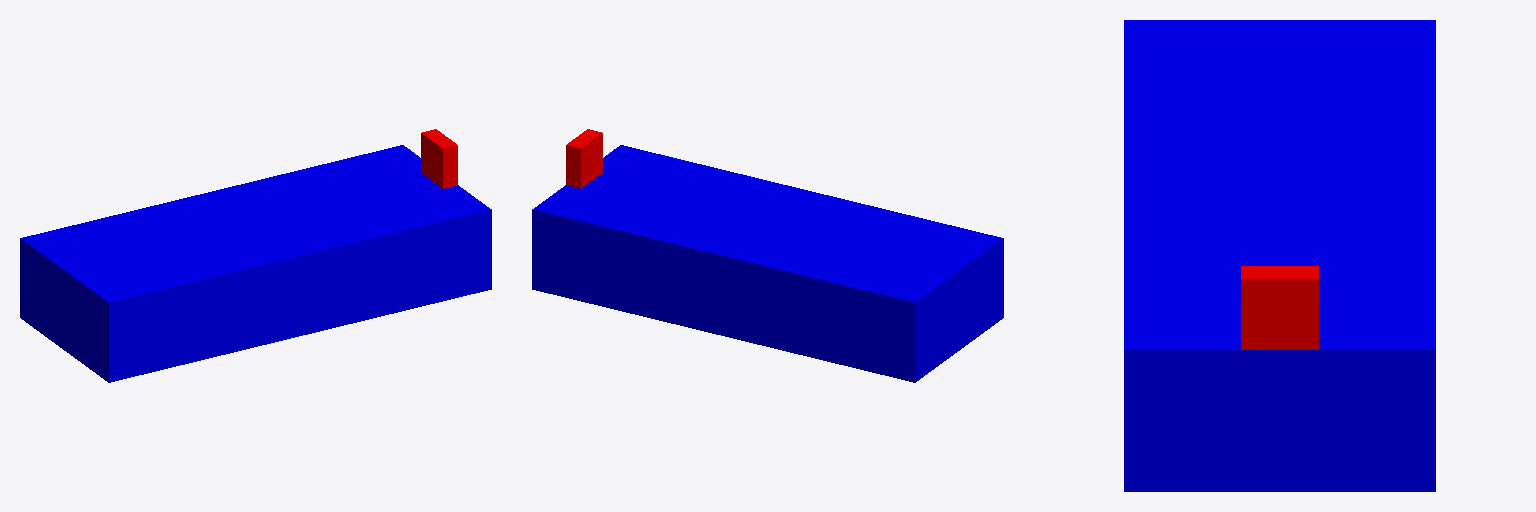
The robot description file, URDF, robot "box":
<robot name="box">
    <link name="base_link">    
        <visual>
            <geometry>
                <box size="0.5 0.2 0.1"/>
            </geometry>
            <origin xyz="0 0 0" rpy="0 0 0"/>
            <material name="bblue">
                <color rgba="0 0 1.0 0.5"/>
            </material>
        </visual>
    </link>

    <link name="camera">
        <visual>
            <geometry>
                <box size="0.02 0.05 0.05" />
            </geometry>
            <origin xyz="0 0 0" rpy="0 0 0" />
            <material name="red">
                <color rgba="1 0 0 0.5" />
            </material>
        </visual>
    </link>

    <joint name="camera2baselink" type="continuous">
        <parent link="base_link"/>
        <child link="camera"/>
        <origin xyz="0.24 0 0.075" rpy="0 0 0" />
        <axis xyz="0 0 1" />
    </joint>

    
    

</robot>

--- Render facts (derived) ---
Views: 3 orthographic renders of the robot side by side, from view 1: azimuth 30°, elevation 25°; view 2: azimuth 150°, elevation 25°; view 3: azimuth 270°, elevation 25°.
Robot: box — 2 links, 1 joints (1 continuous); root link base_link; default pose: all joints at 0.
Links seen in each view (by area): view 1: base_link, camera; view 2: base_link, camera; view 3: base_link, camera.
Boxes of the visible links, box(x1,y1,x2,y2) form: base_link: box(20, 145, 491, 382); camera: box(421, 129, 457, 188); base_link: box(532, 145, 1003, 382); camera: box(566, 129, 602, 188); base_link: box(1124, 20, 1435, 491); camera: box(1241, 266, 1318, 349).
Size in the robot's own frame: 0.5 by 0.2 by 0.15 metres.
Geometry: primitives only (box / cylinder / sphere), no mesh files.